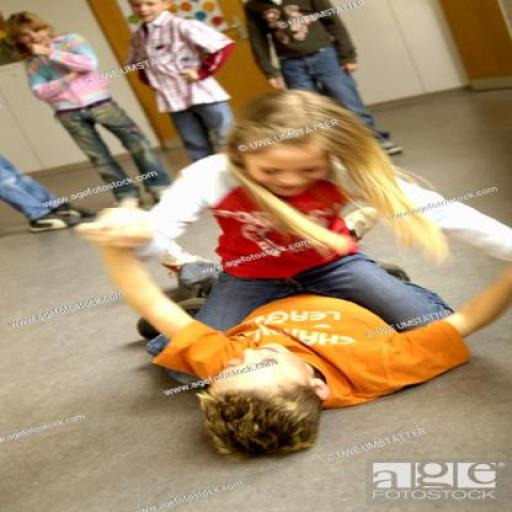Fighting: (93, 88, 511, 450)
